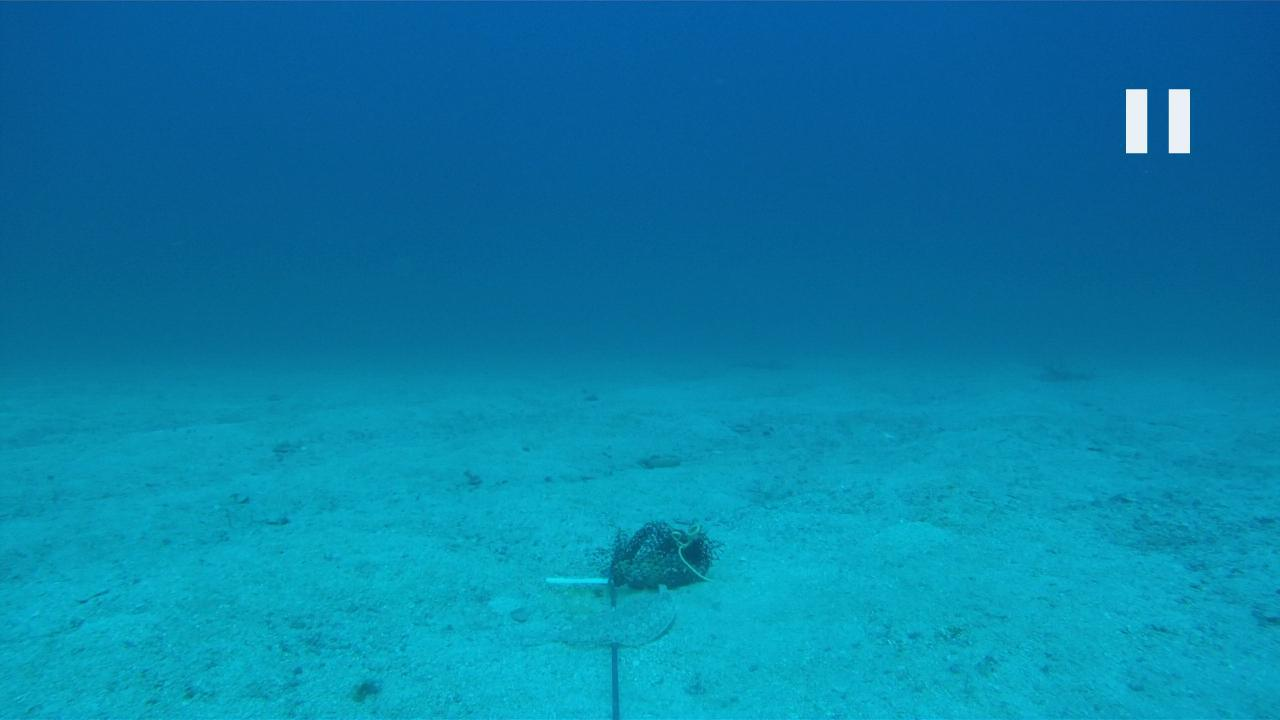bothus: (512, 587, 681, 648)
